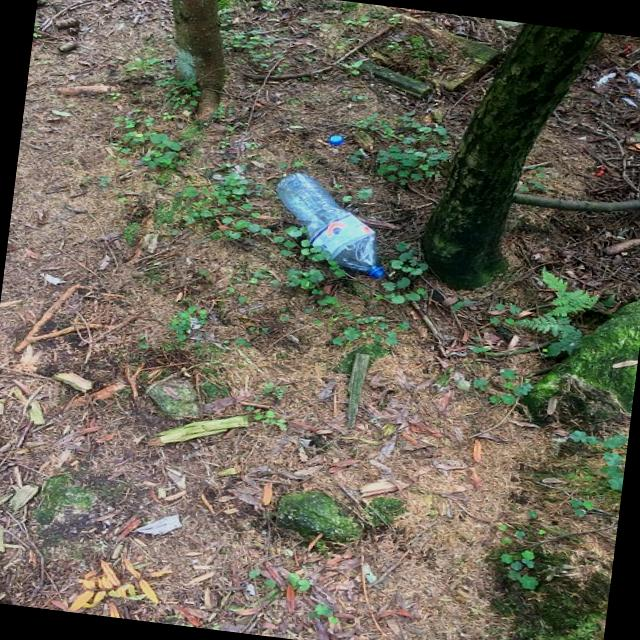Recycle: (271, 169, 391, 280)
